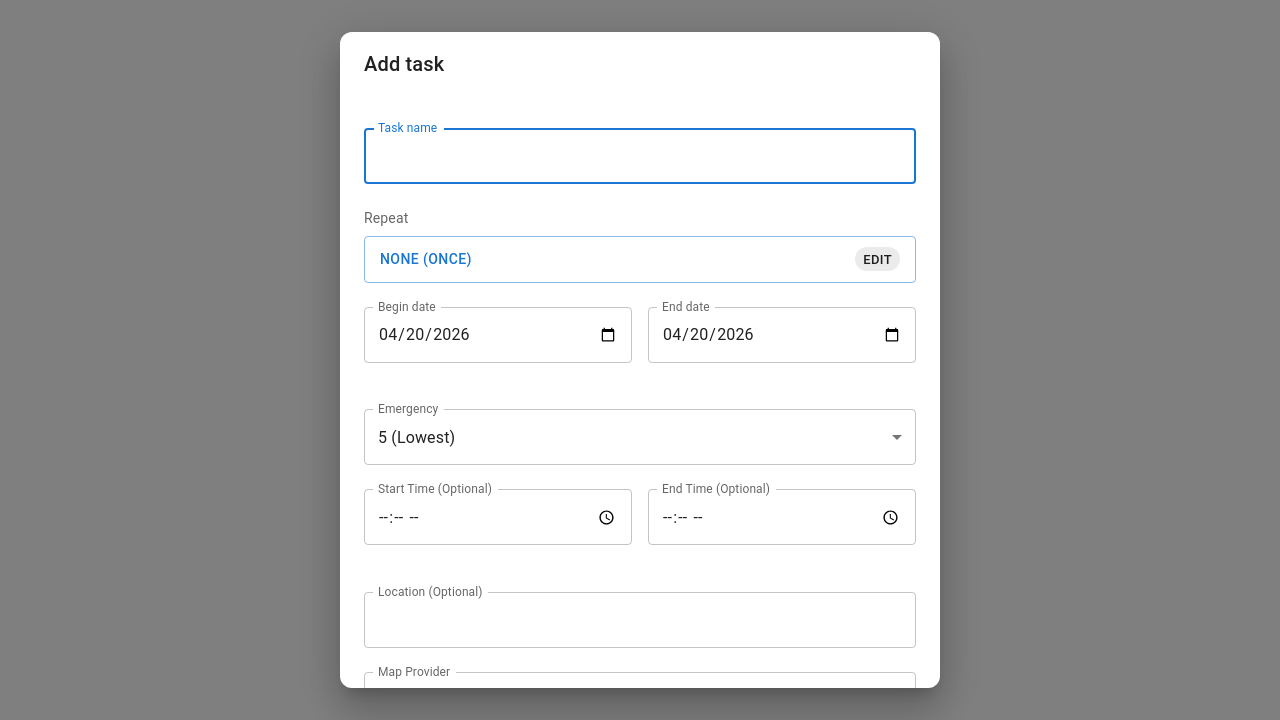
Test: TaskDialog behavior › blocks saving when end time is earlier than start time
Type "Late task" into the field labelled "Task name". click: [640, 156]
box: [364,128,916,184]
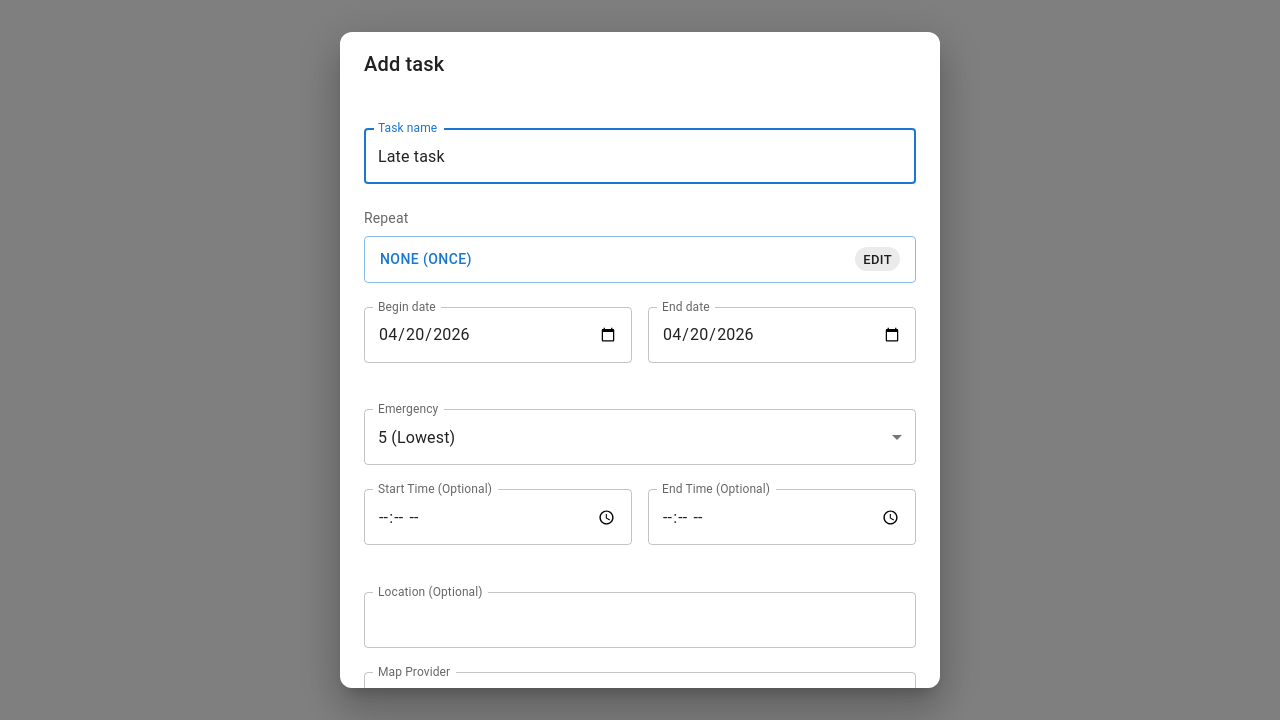
Type "1800" into the time field labelled "Start Time (Optional)". click: [498, 517]
box: [364,489,632,545]
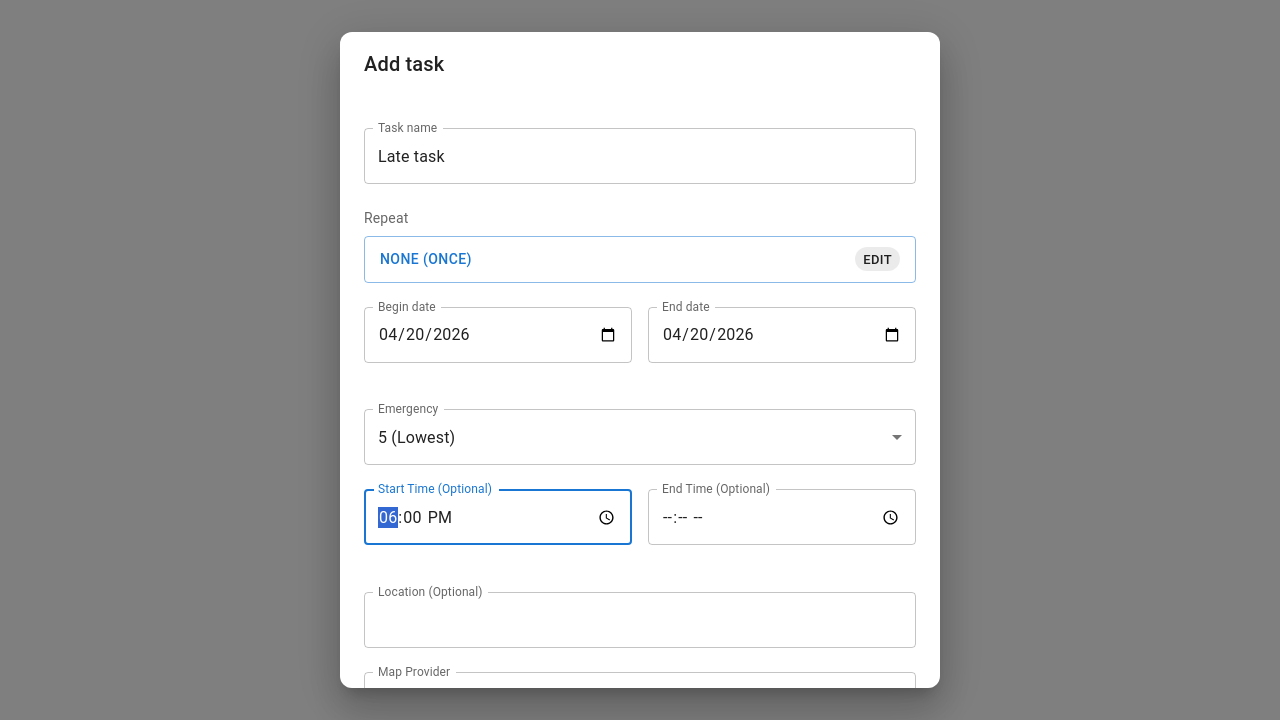
Type "1700" into the time field labelled "End Time (Optional)". click: [782, 517]
box: [648,489,916,545]
(page scrolled)
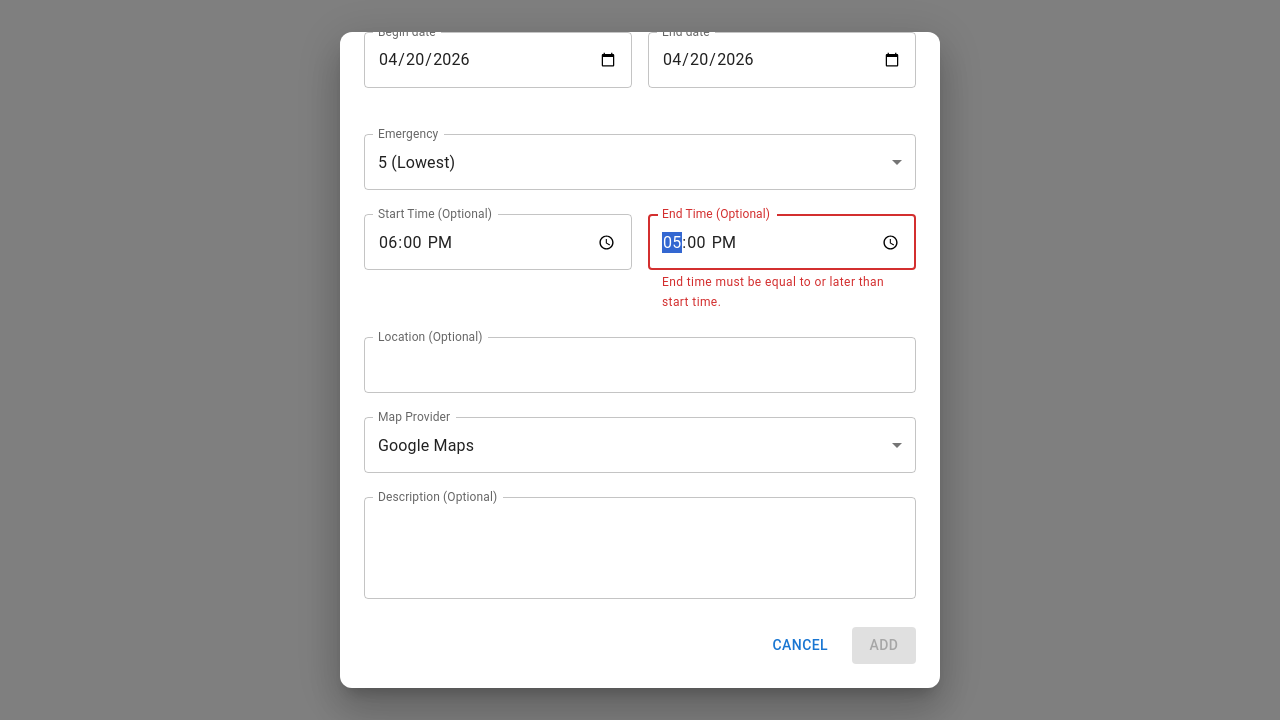
Expected: the button "Add" is disabled, [852,627,916,664]
Expected: the text "End time must be equal to or later than start time." is shown, [662,273,902,313]
